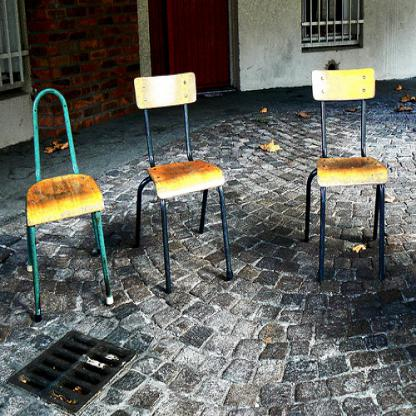chair: (133, 72, 236, 294), (21, 84, 113, 320), (303, 68, 388, 283)
